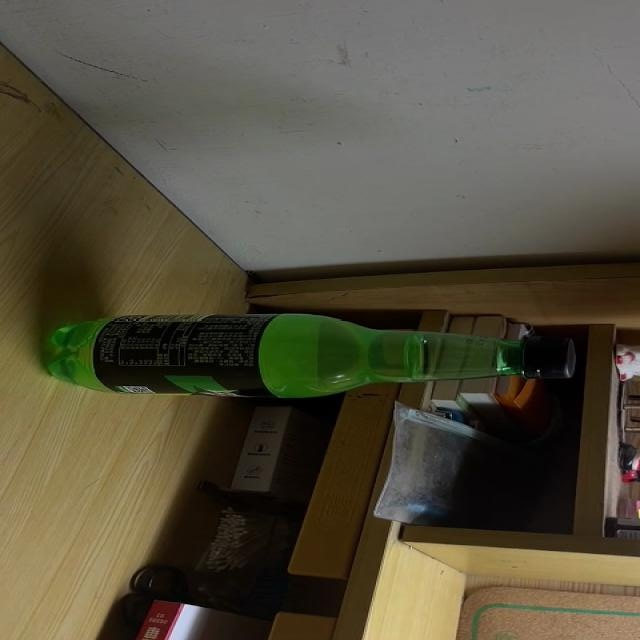Mountain-Dew: (45, 312, 582, 398)
